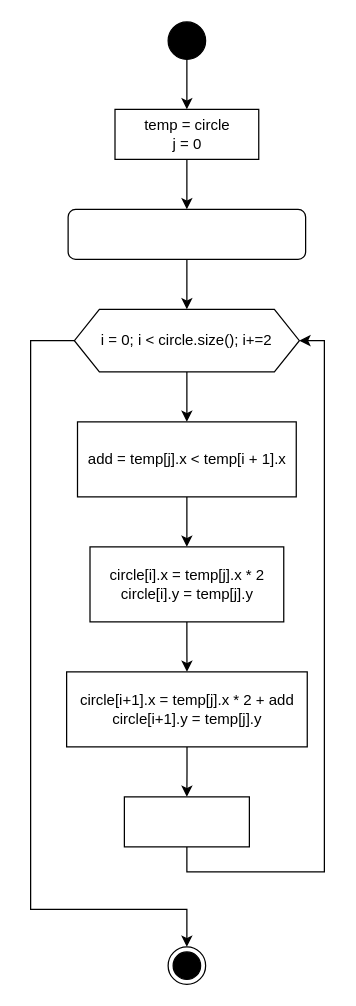
Image size: 356x1006. Some labels were removed from this diagram. Each missing label, with the centre of its shape:
"circle.resize(circle.size() * 2 - 1)" belongs at point (186, 233).
"j = j + 1" belongs at point (186, 821).
